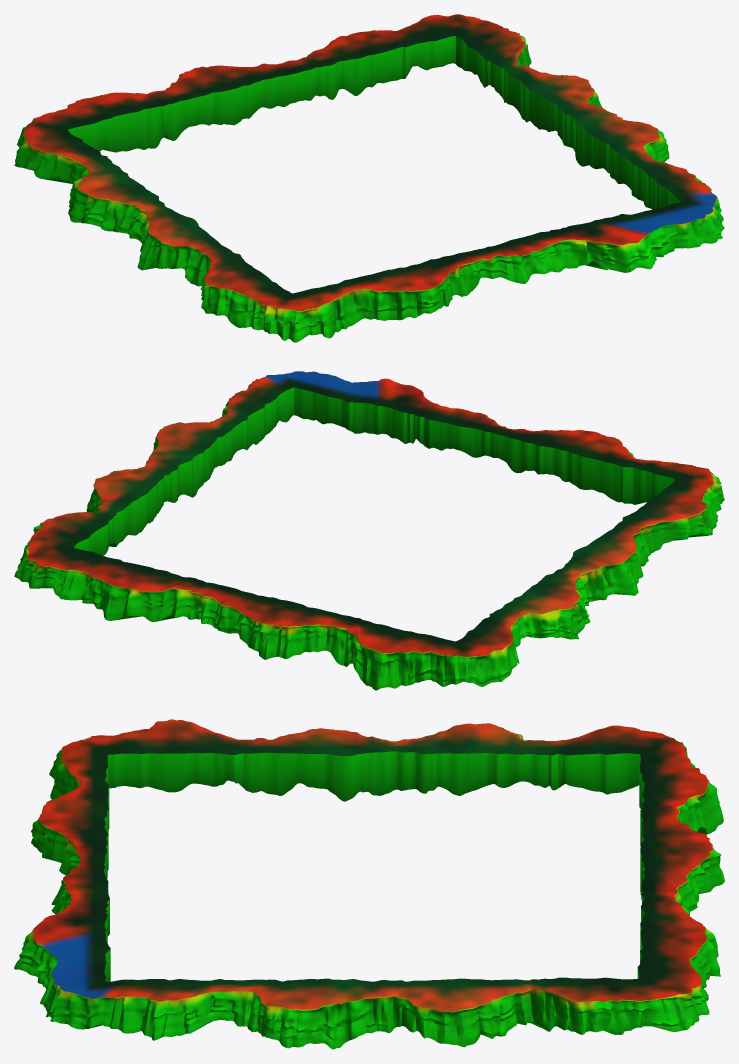
File: SM_ForestEscarpment.fbx
3 renders of one model, top to bottom at view 1: azimuth 30°, elevation 25°; view 2: azimuth 150°, elevation 25°; view 3: azimuth 270°, elevation 25°, orthographic. The views are drawn at different scales.
Parts seen in each view (by area): view 1: SM_ForestEscarpment; view 2: SM_ForestEscarpment; view 3: SM_ForestEscarpment.
Part boxes in pixels (x1,y1,x2,y2): SM_ForestEscarpment: (14,14,724,342); SM_ForestEscarpment: (14,371,724,690); SM_ForestEscarpment: (14,719,724,1049).
Bounding box in the file's own units: 253 × 255 × 20.99.
